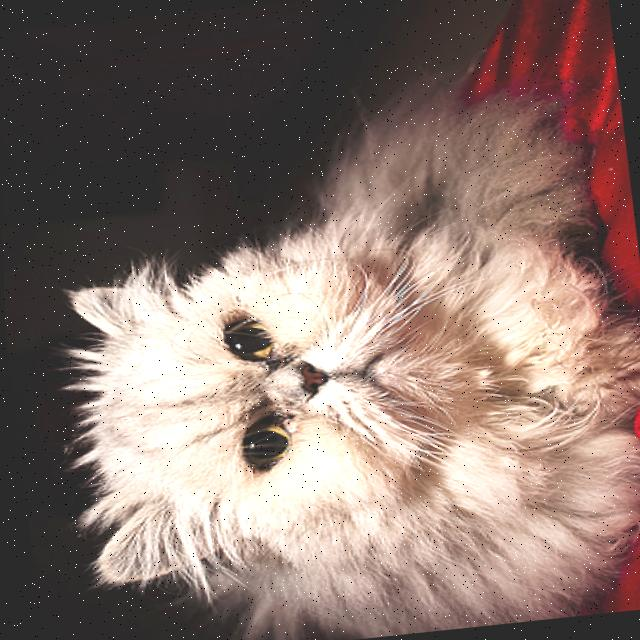Persian: (16, 55, 640, 640)
